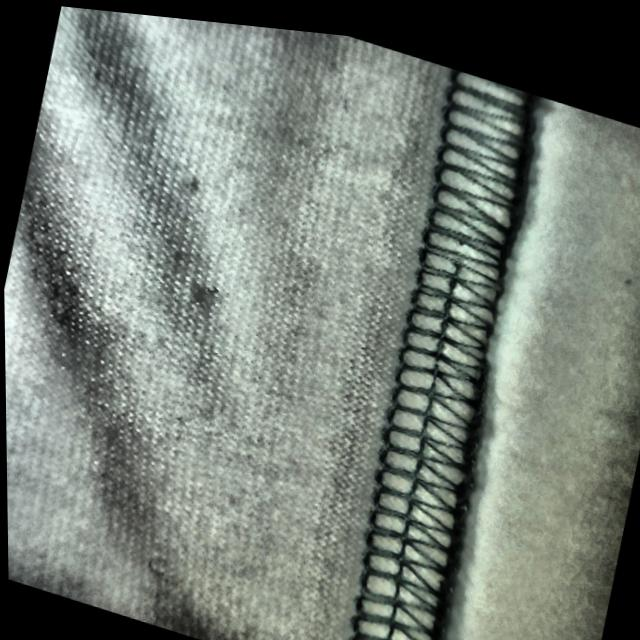Stitch: (369, 51, 551, 449)
